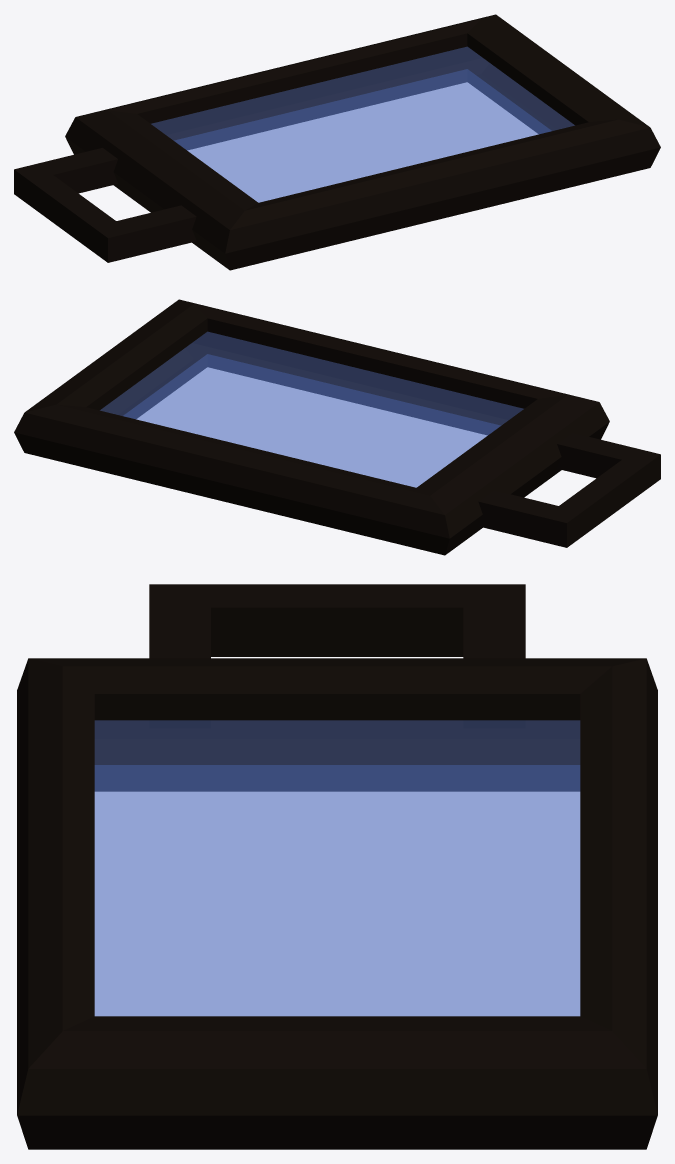
Rendered from Tool_DigiScanner.fbx.
3 views of the same model, one above another, from view 1: azimuth 30°, elevation 25°; view 2: azimuth 150°, elevation 25°; view 3: azimuth 270°, elevation 25° (orthographic). The views are drawn at different scales.
Visible parts, largest first — view 1: Cube; view 2: Cube; view 3: Cube.
Boxes of the visible parts, box(x1,y1,x2,y2) form: Cube: box(14, 14, 660, 270); Cube: box(14, 299, 660, 555); Cube: box(17, 584, 657, 1149).
Bounding box in the file's own units: 139 × 14.12 × 74.29.
